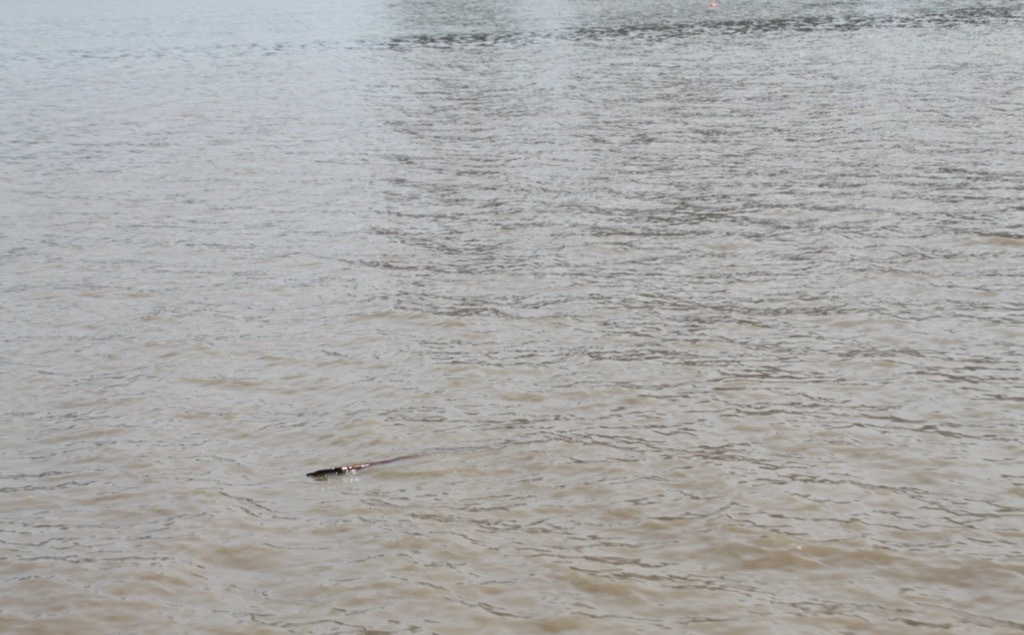organic: (293, 428, 463, 501)
plastic: (704, 1, 721, 11)
